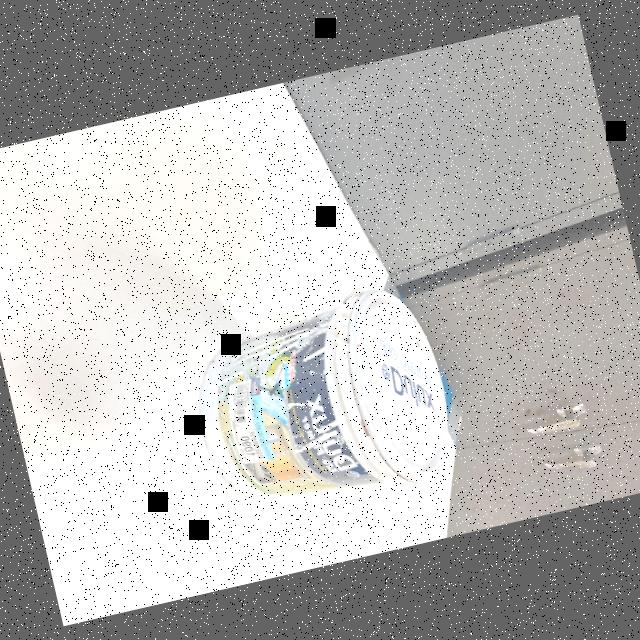paint_bucket: (171, 252, 474, 547)
